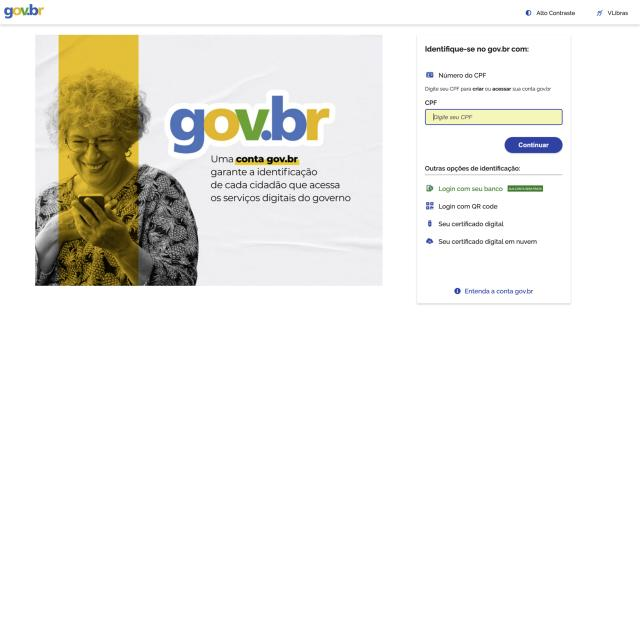CheckBox: (503, 136, 562, 154)
CheckedTextView: (424, 108, 564, 126)
RadioButton: (507, 185, 545, 192)
breadcrumbs: (422, 44, 531, 54)
card: (34, 34, 383, 286)
date picker: (1, 2, 48, 19)
